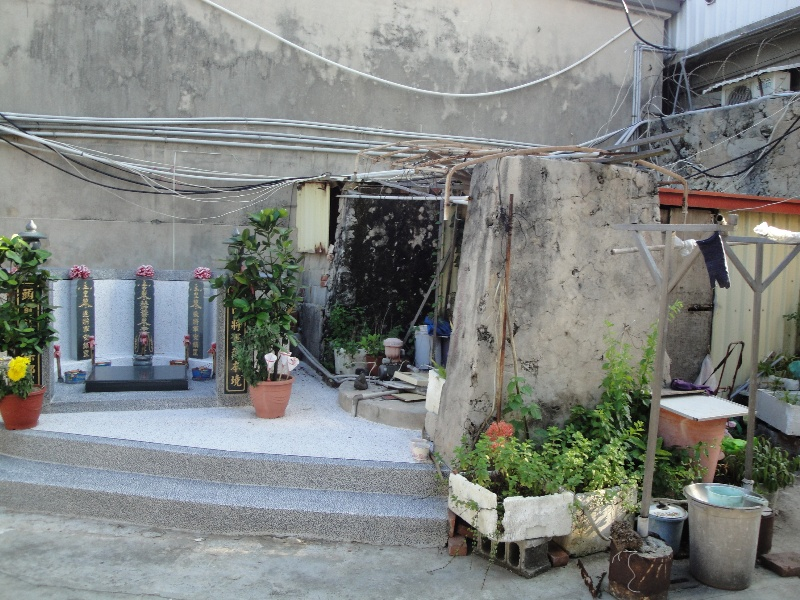bucket: (684, 479, 765, 592)
